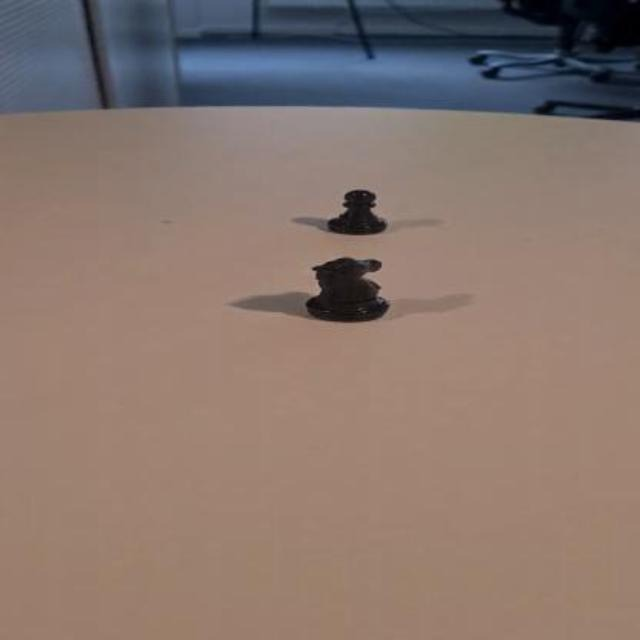black-knight: (302, 257, 394, 324)
black-pawn: (320, 184, 390, 236)
